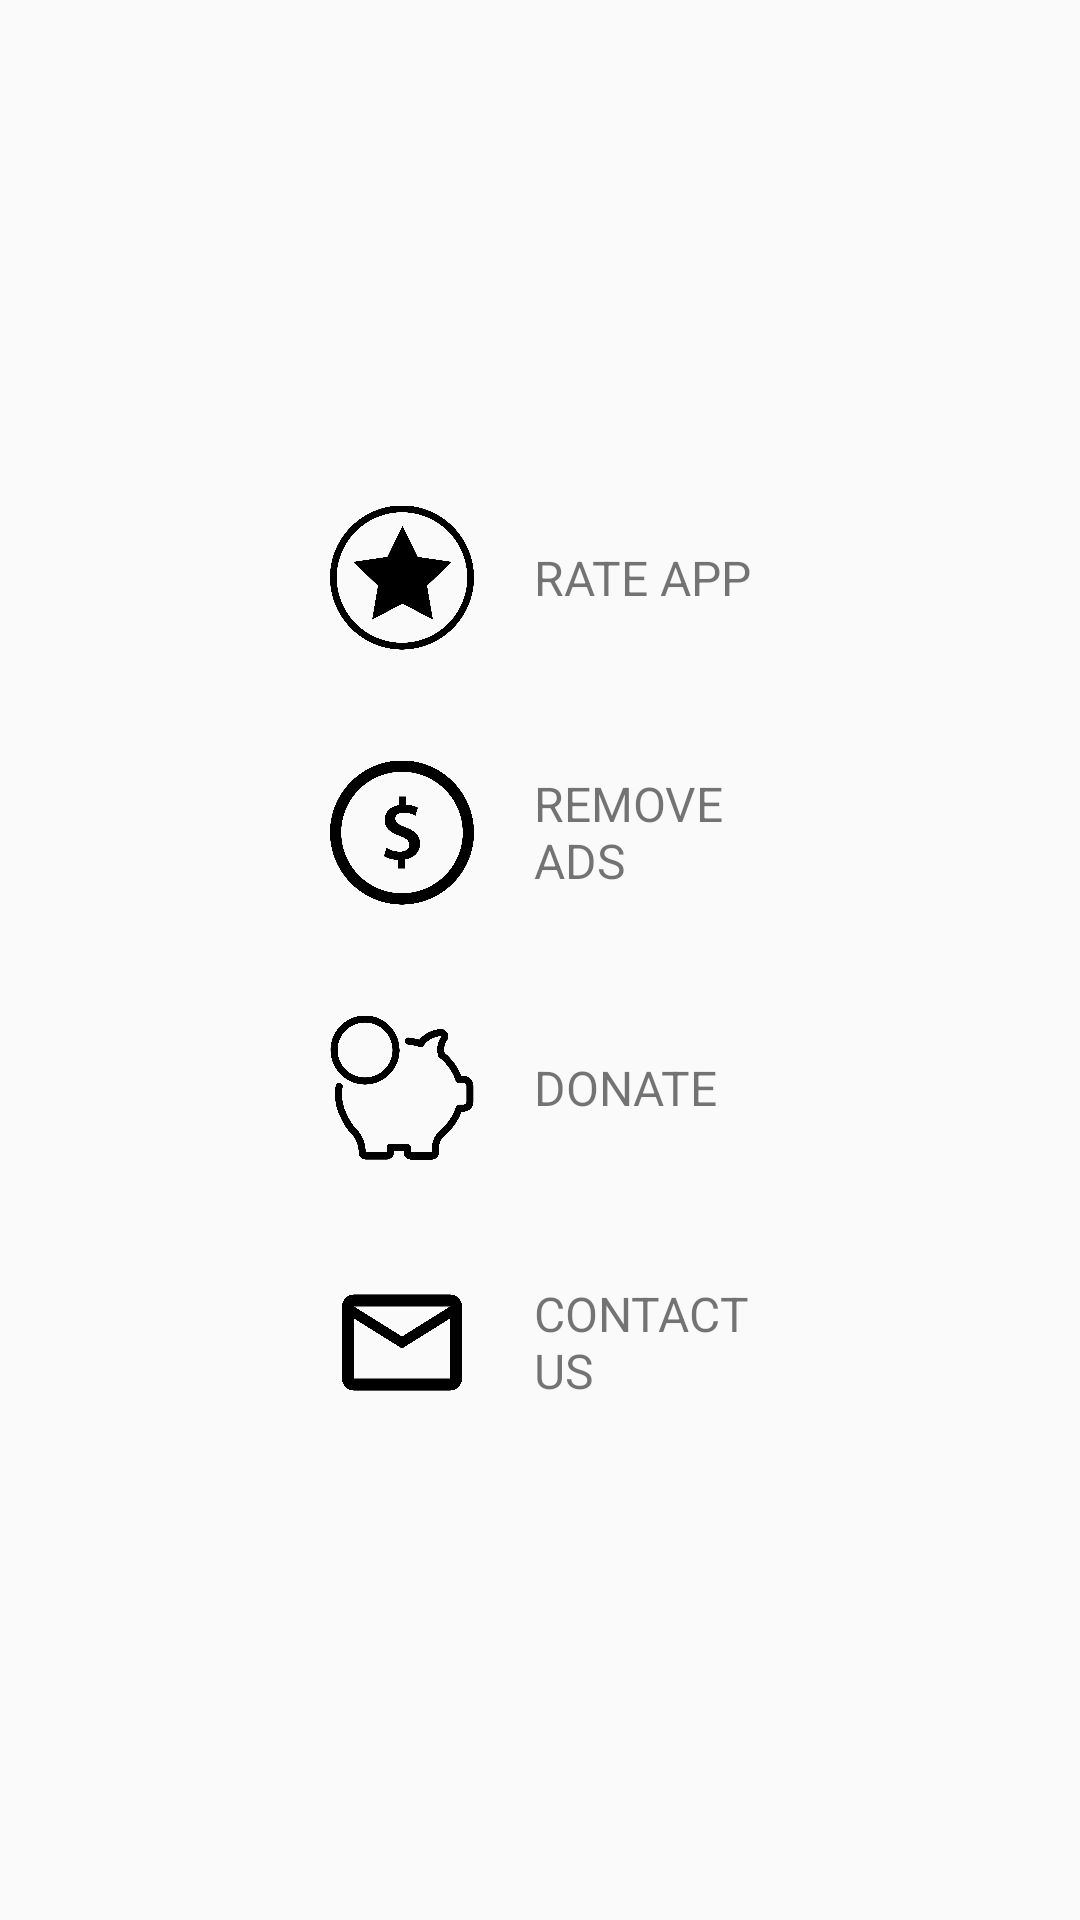

Point at icon controls on the screen. Image size 1080*1920, points as [x,y].
settings dollar: [402,833]
settings piggy bank: [402,1088]
settings star: [402,578]
